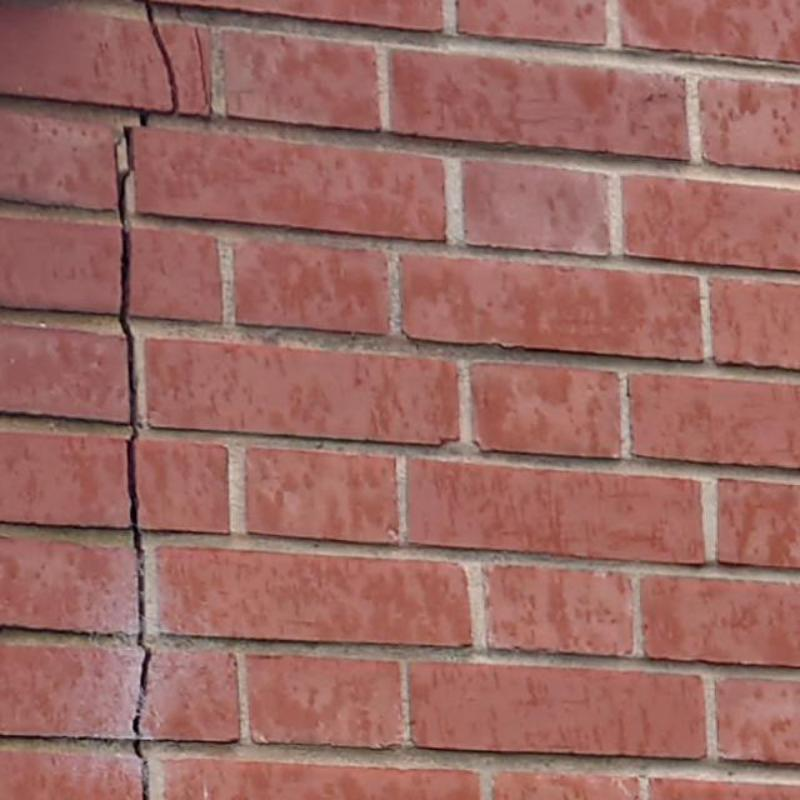pothole: (114, 127, 146, 650), (175, 5, 212, 112), (145, 0, 175, 110), (133, 650, 150, 740), (133, 739, 150, 799), (141, 112, 148, 127)
